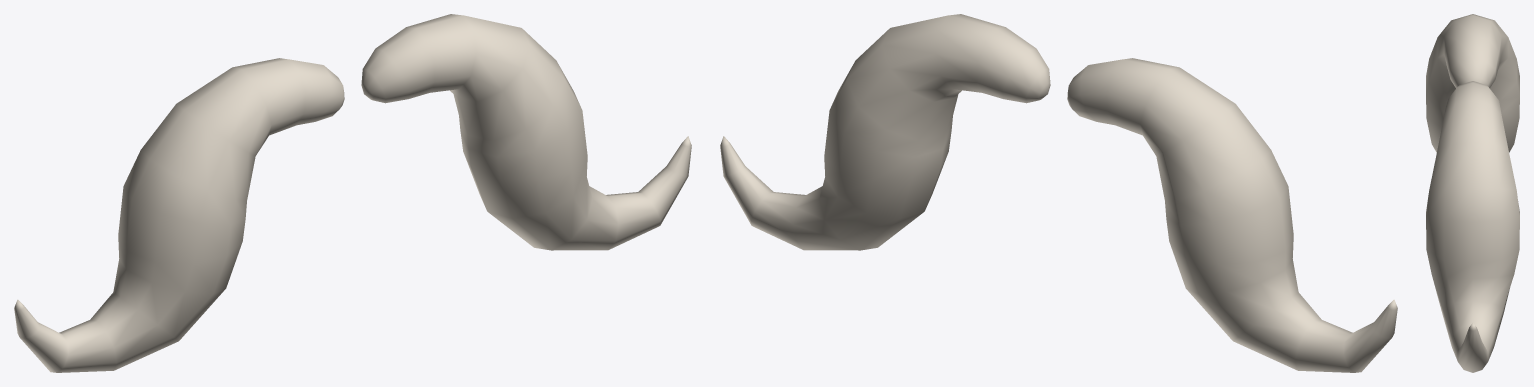
Rendered from Beard_06_07.fbx.
3 views of the same model, side by side, from view 1: azimuth 30°, elevation 25°; view 2: azimuth 150°, elevation 25°; view 3: azimuth 270°, elevation 25° (orthographic). The views are drawn at different scales.
Visible parts, largest first — view 1: Beard_06_07; view 2: Beard_06_07; view 3: Beard_06_07.
Boxes of the visible parts, left/top/right/bottom form: Beard_06_07: left=14, top=14, right=691, bottom=372; Beard_06_07: left=720, top=14, right=1397, bottom=372; Beard_06_07: left=1426, top=14, right=1519, bottom=372.
Bounding box in the file's own units: 27.87 × 10.5 × 4.29.
